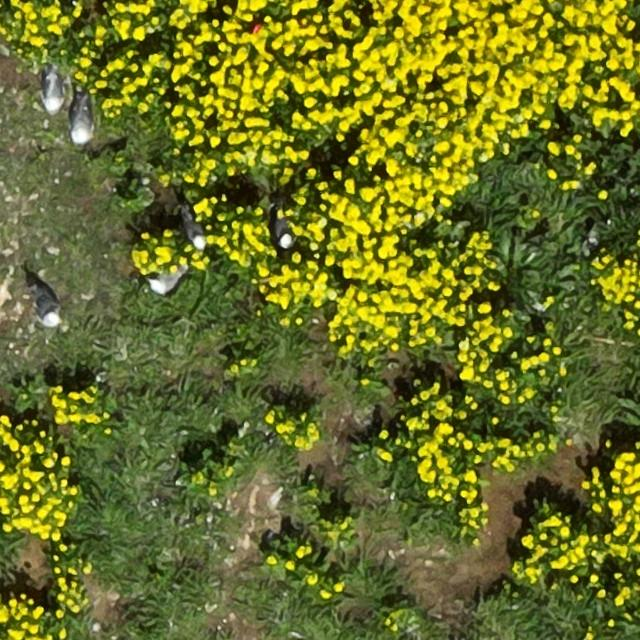umineko: (72, 100, 92, 144), (182, 211, 205, 249), (37, 292, 60, 326), (44, 73, 62, 112), (150, 272, 182, 293), (274, 216, 293, 248)
